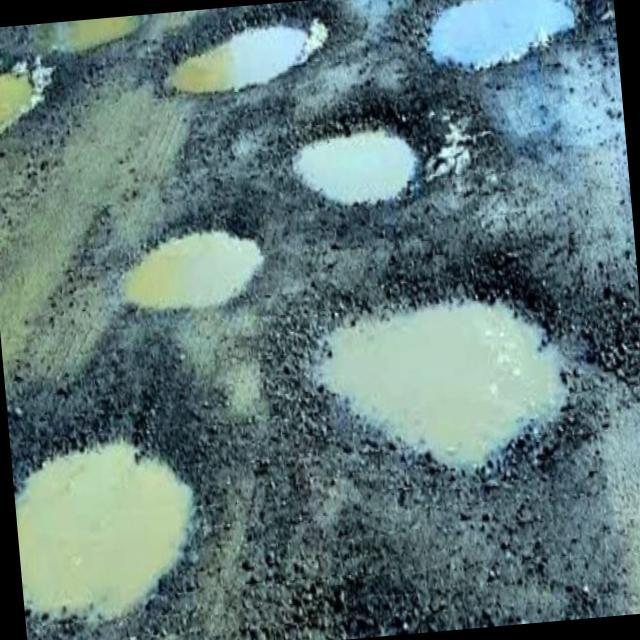Pothole: (282, 234, 614, 508), (5, 380, 234, 640), (98, 194, 287, 354), (276, 82, 442, 236), (150, 0, 350, 115), (406, 0, 617, 104), (28, 13, 160, 71), (0, 37, 61, 161)
